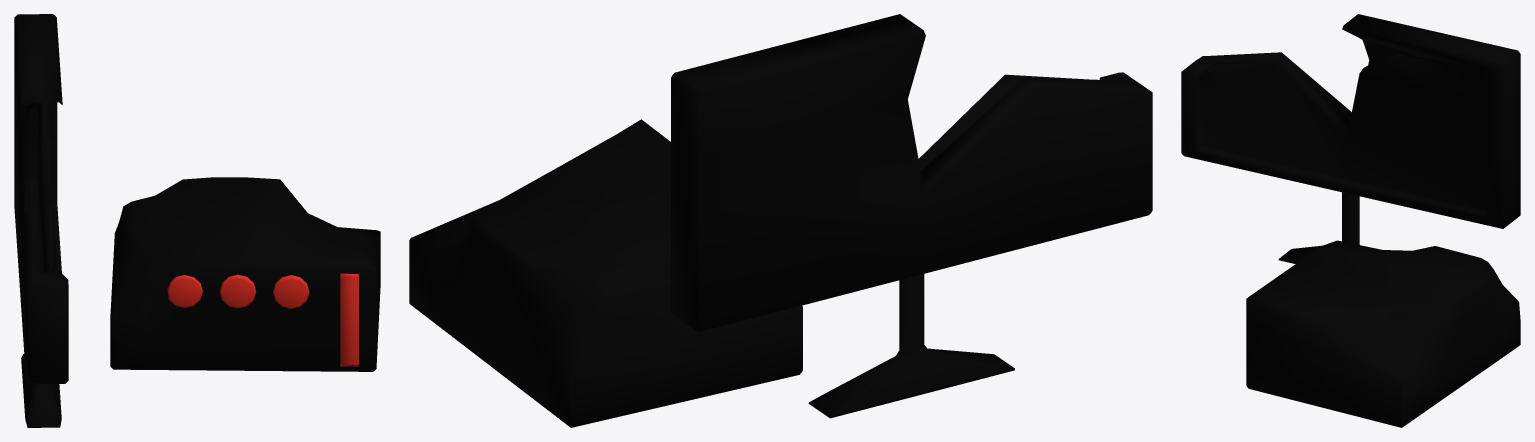
Rendered from PcBroken.fbx.
3 views of the same model, side by side, from view 1: azimuth 30°, elevation 25°; view 2: azimuth 150°, elevation 25°; view 3: azimuth 270°, elevation 25° (orthographic). The views are drawn at different scales.
Parts seen in each view (by area): view 1: PcBroken; view 2: PcBroken; view 3: PcBroken.
Part boxes in pixels (bbox=[...]): PcBroken: bbox=[14, 14, 380, 427]; PcBroken: bbox=[409, 14, 1152, 427]; PcBroken: bbox=[1181, 14, 1520, 427].
Size of the model in its own units: 122 by 72.82 by 88.33.
